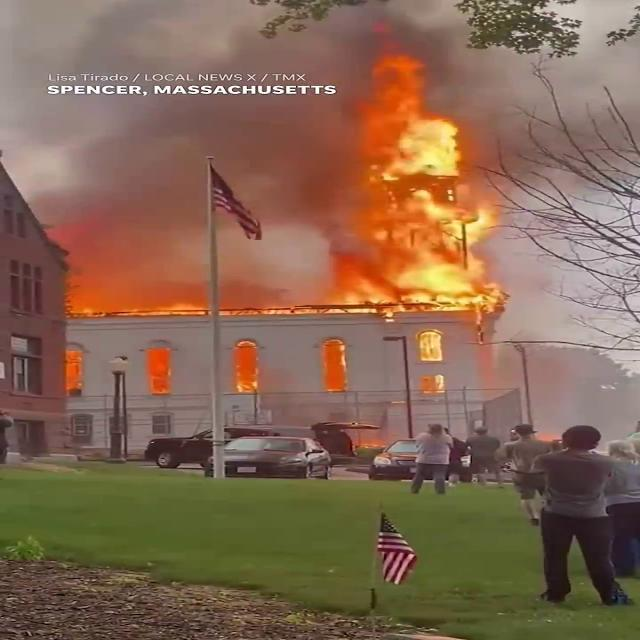Fire: (310, 49, 526, 324)
Smoke: (0, 0, 301, 299)
